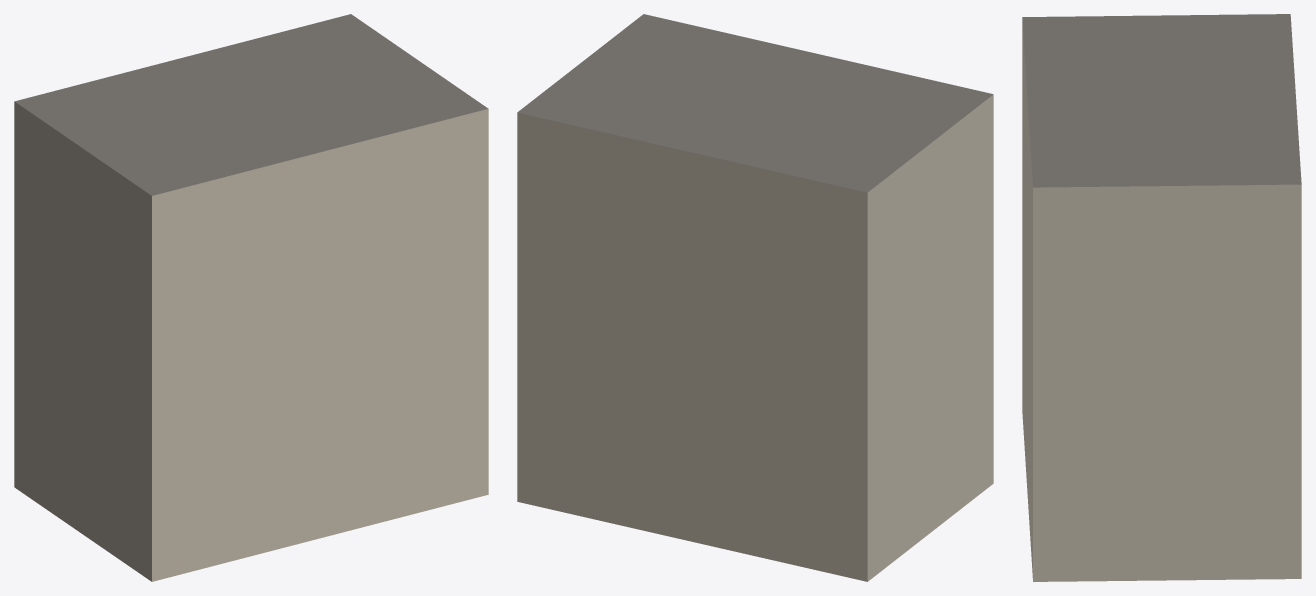
The picture shows the model from 3 angles, left to right: view 1: azimuth 30°, elevation 25°; view 2: azimuth 150°, elevation 25°; view 3: azimuth 270°, elevation 25°; orthographic projection. The views are drawn at different scales.
Parts seen in each view (by area): view 1: HP-w1286955407; view 2: HP-w1286955407; view 3: HP-w1286955407.
Part boxes in pixels (left/top/right/bottom): HP-w1286955407: left=14, top=14, right=488, bottom=581; HP-w1286955407: left=517, top=14, right=993, bottom=581; HP-w1286955407: left=1022, top=14, right=1301, bottom=581.
Size of the model in its own units: 16.99 by 18 by 11.55.
